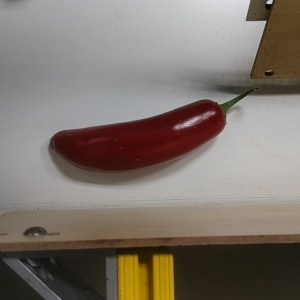Cut Point: (200, 96, 237, 132)
